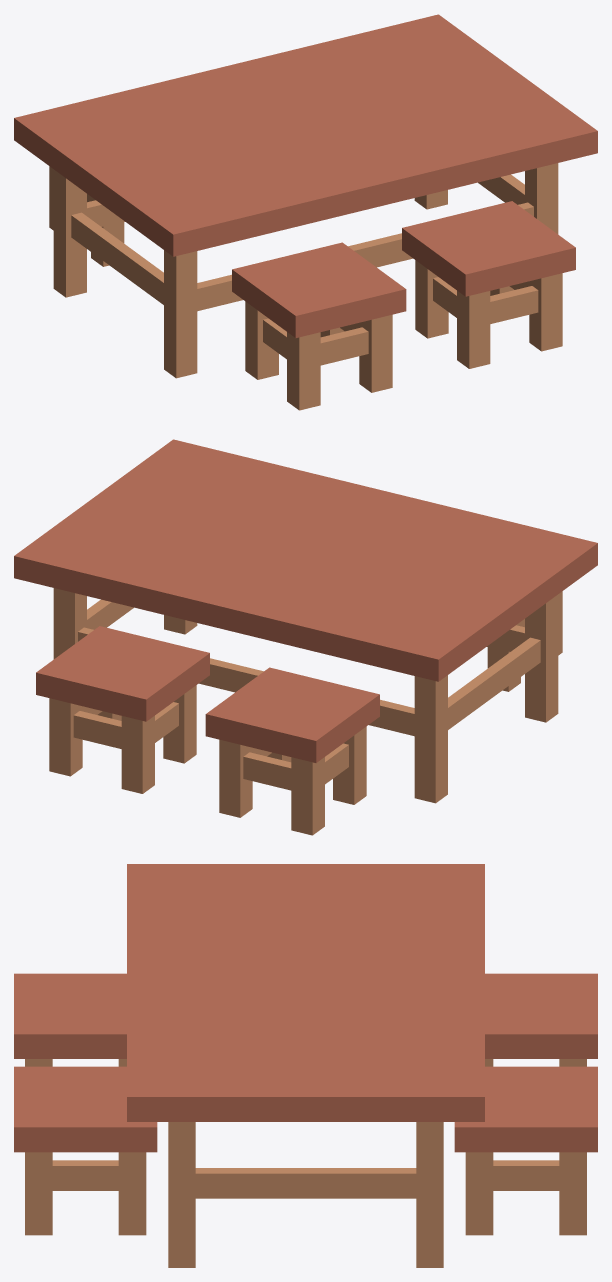
The model's file is TableChairs.fbx.
3 views of the same model, one above another, from view 1: azimuth 30°, elevation 25°; view 2: azimuth 150°, elevation 25°; view 3: azimuth 270°, elevation 25° (orthographic). The views are drawn at different scales.
Visible parts, largest first — view 1: mergedBlocks; view 2: mergedBlocks; view 3: mergedBlocks.
Boxes of the visible parts, x1,y1,x2,y2 form: mergedBlocks: [14, 14, 597, 410]; mergedBlocks: [14, 439, 597, 835]; mergedBlocks: [14, 864, 597, 1267].
Size of the model in its own units: 10 by 3.66 by 10.6.
